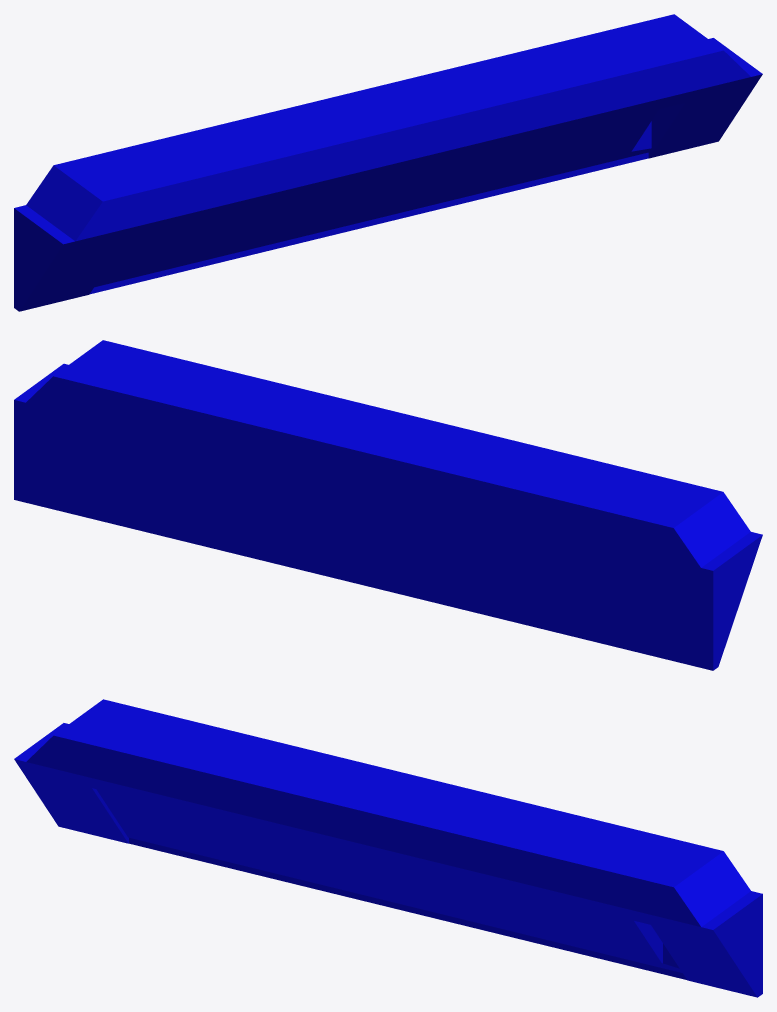
Rendered from ZG_Proxy_ExhaustHood.fbx.
The picture shows the model from 3 angles, top to bottom: view 1: azimuth 30°, elevation 25°; view 2: azimuth 150°, elevation 25°; view 3: azimuth 330°, elevation 25°; orthographic projection.
Visible parts, largest first — view 1: ExhaustHood; view 2: ExhaustHood; view 3: ExhaustHood.
Part boxes in pixels (x1=…): ExhaustHood: x1=14, y1=14, x2=762, y2=311; ExhaustHood: x1=14, y1=340, x2=762, y2=670; ExhaustHood: x1=14, y1=699, x2=762, y2=997.
Size of the model in its own units: 5521 by 1004 by 684.
